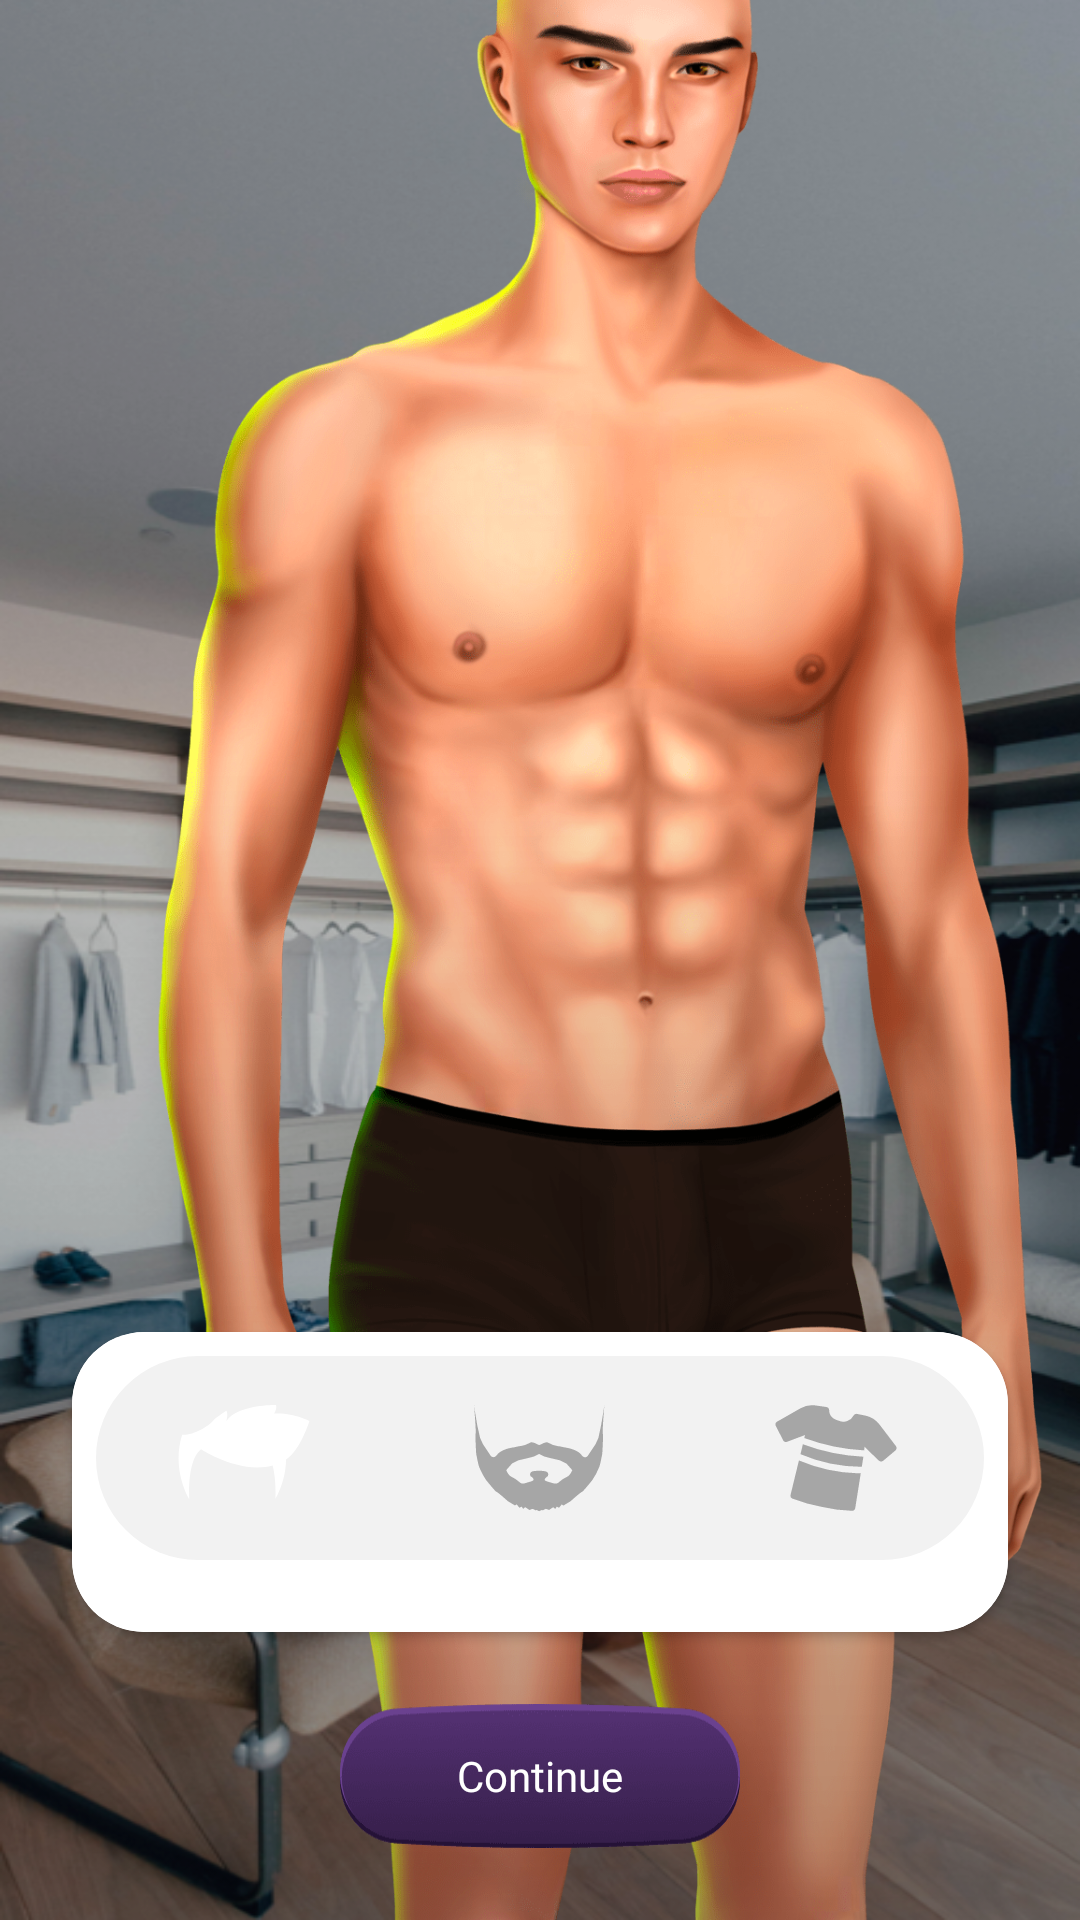

Icon click points for this 1080px×1920px phone screenshot, format (x=x, y=y):
Beard Category: (x=539, y=1460)
Clothe Category: (x=836, y=1458)
